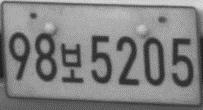0: (142, 36, 165, 85)
2: (115, 35, 139, 85)
5: (170, 37, 194, 87), (90, 34, 112, 83)
8: (34, 32, 57, 81)
9: (8, 31, 30, 80)
보: (60, 42, 84, 83)
